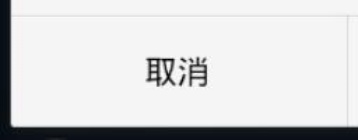Button: (1, 1, 357, 139)
